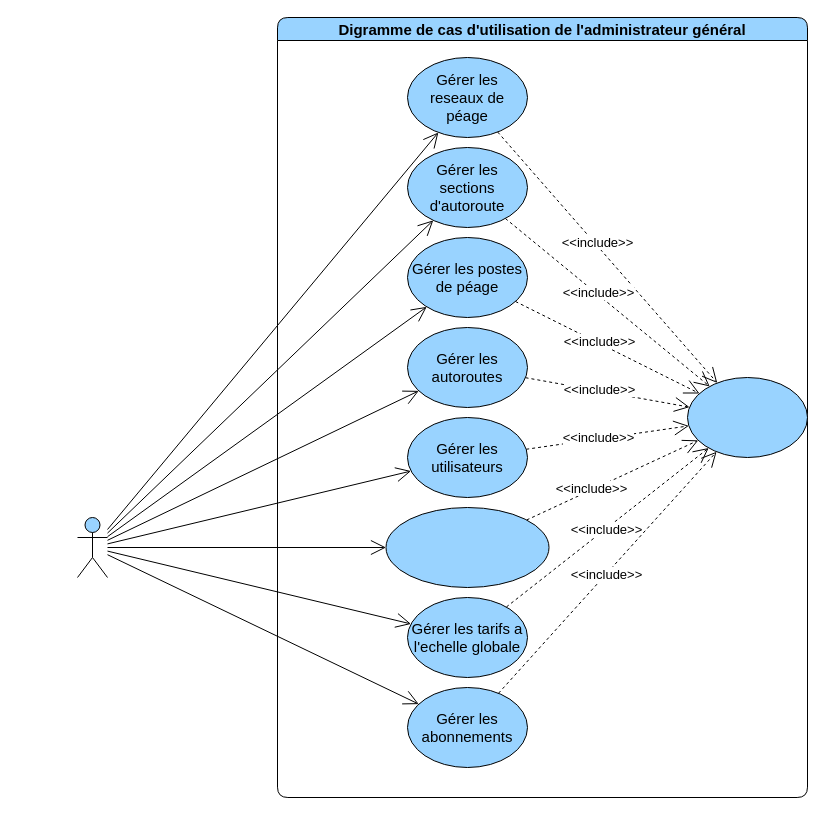
This 825x815 diagram has some shape labels left out. Each missing label, with the box of its shape:
Administrateur général: (76, 516, 108, 578)
Gérer les administrateurs des ressources humaines: (385, 506, 549, 588)
S'authenthifier: (686, 376, 808, 458)
